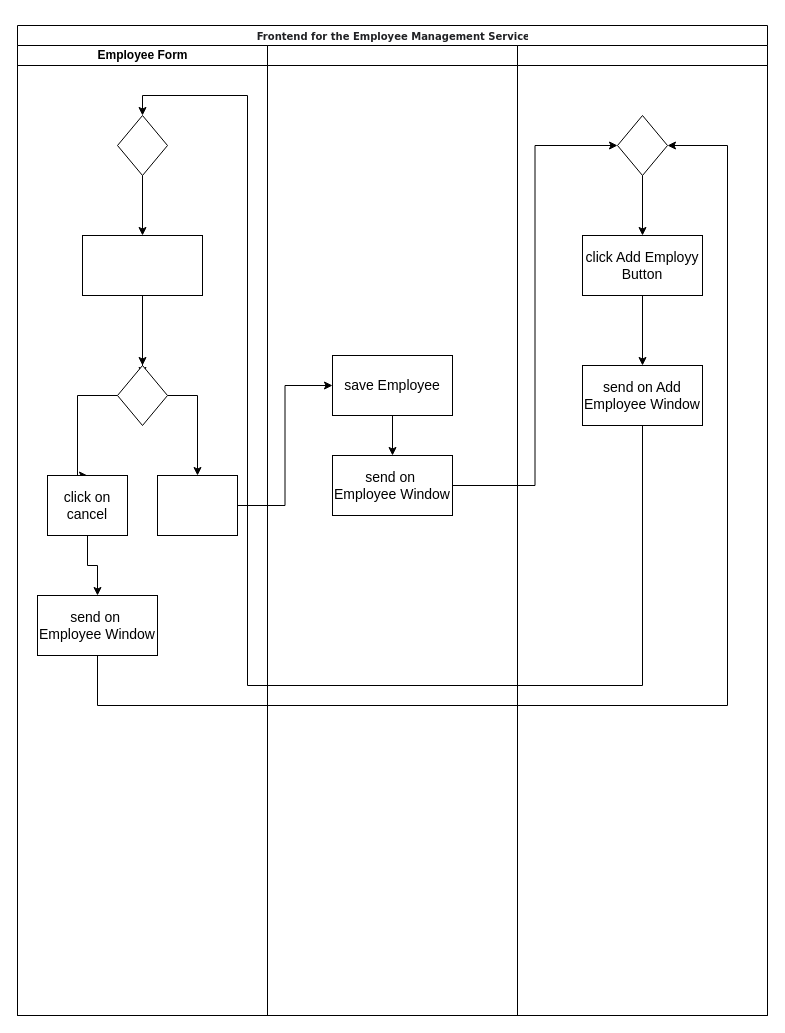
Image size: 785x1033. Some labels were removed from this diagram. Each missing label, with the box of its shape:
Add Employee Form: (516, 44, 768, 1016)
click on save: (156, 474, 238, 536)
Employee Service: (266, 44, 518, 1016)
Enter data of new Employee: (82, 234, 202, 296)
